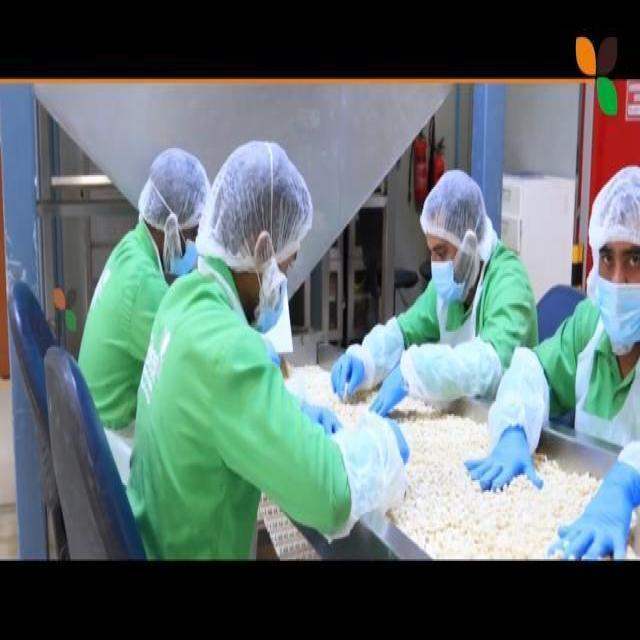gloved_hand: (547, 461, 639, 559), (467, 413, 543, 510), (372, 350, 421, 423), (375, 397, 422, 473), (287, 384, 347, 436), (327, 345, 373, 409)
